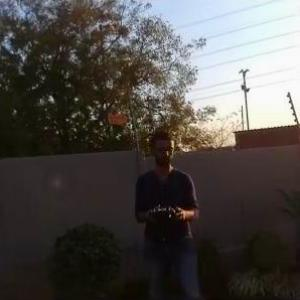follow: (131, 122, 208, 299)
